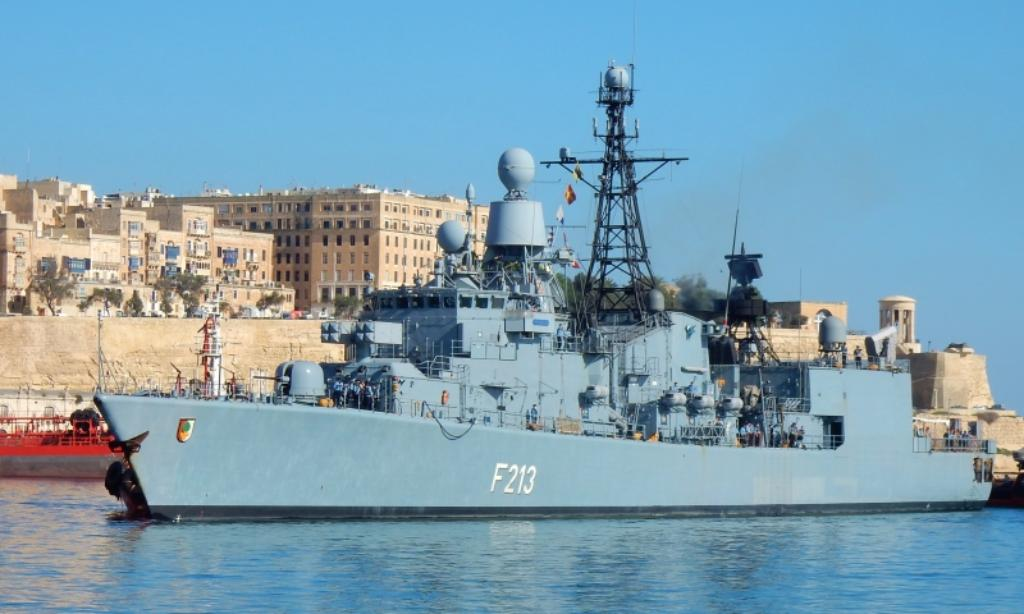Warship: (84, 55, 998, 535)
